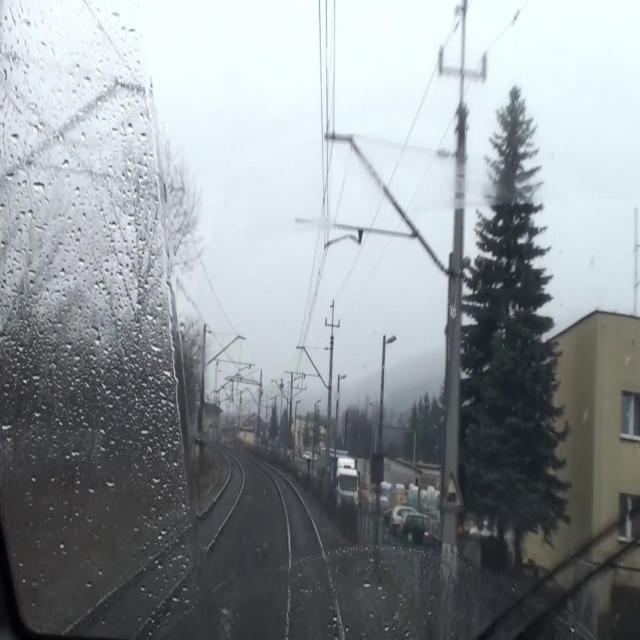rail-track: (65, 460, 240, 639), (277, 476, 340, 639)
